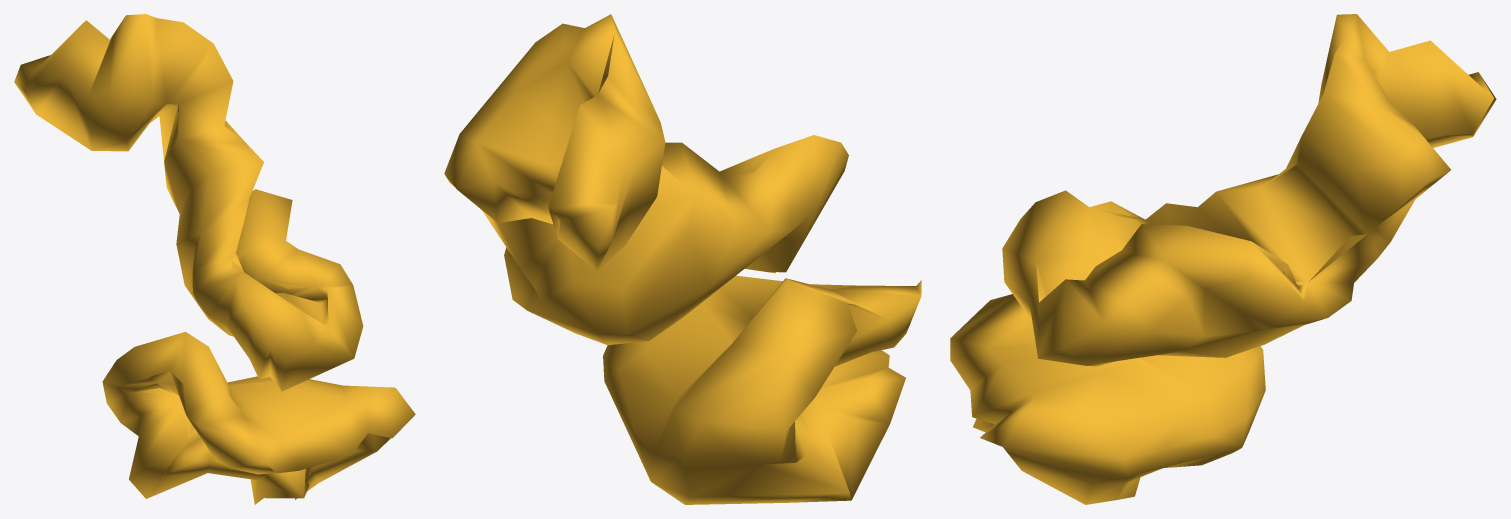
Rendered from nervoso-paracentral-sulcus-r.glb.
3 views of the same model, side by side, from view 1: azimuth 30°, elevation 25°; view 2: azimuth 150°, elevation 25°; view 3: azimuth 270°, elevation 25° (orthographic). The views are drawn at different scales.
Visible parts, largest first — view 1: Paracentral sulcus.r; view 2: Paracentral sulcus.r; view 3: Paracentral sulcus.r.
Boxes of the visible parts, <box> form: Paracentral sulcus.r: <box>14,14,415,504</box>; Paracentral sulcus.r: <box>444,14,921,504</box>; Paracentral sulcus.r: <box>950,14,1496,504</box>.
Size of the model in its own units: 0.0189 by 0.0338 by 0.0362.
